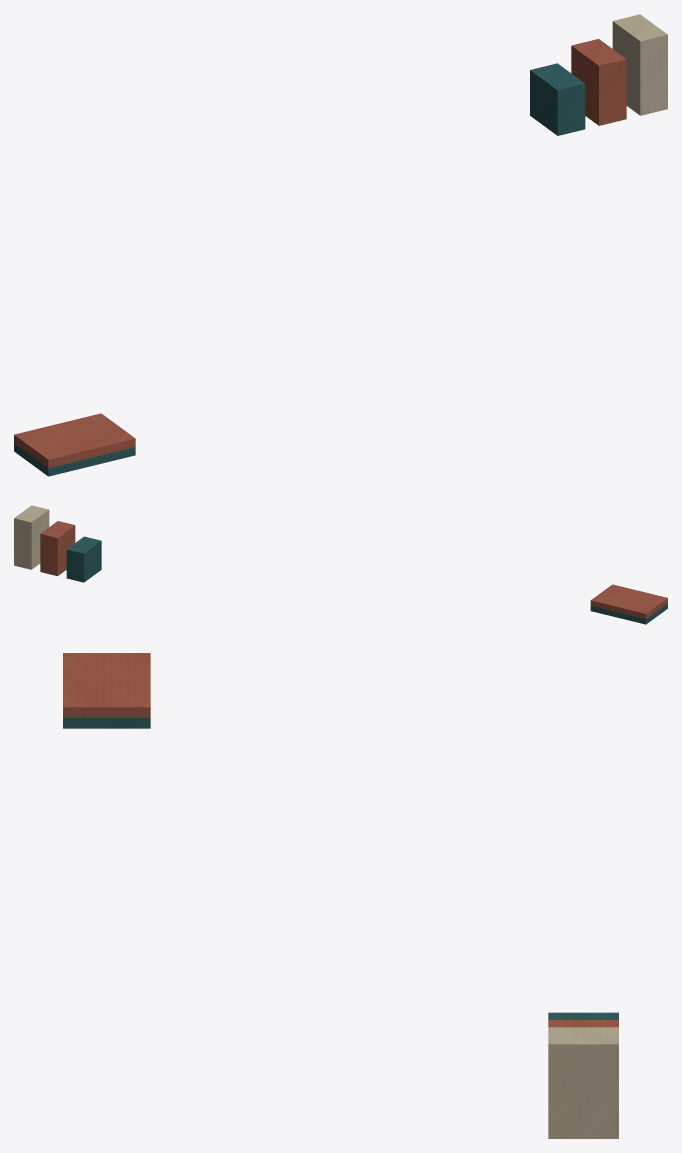
Rendered from detail_props.glb.
3 renders of one model, top to bottom at view 1: azimuth 30°, elevation 25°; view 2: azimuth 150°, elevation 25°; view 3: azimuth 270°, elevation 25°, orthographic. The views are drawn at different scales.
Parts seen in each view (by area): view 1: SUI_DeskBook_2, SUI_TableBook_1, SUI_DeskBook_1, SUI_DeskBook_0, SUI_TableBook_0; view 2: SUI_DeskBook_2, SUI_TableBook_1, SUI_DeskBook_1, SUI_DeskBook_0, SUI_TableBook_0; view 3: SUI_DeskBook_2, SUI_TableBook_1, SUI_TableBook_0.
Part boxes in pixels (bbox=[...]): SUI_DeskBook_2: bbox=[612, 14, 667, 115]; SUI_TableBook_1: bbox=[14, 413, 135, 468]; SUI_DeskBook_1: bbox=[571, 39, 626, 125]; SUI_DeskBook_0: bbox=[530, 63, 585, 135]; SUI_TableBook_0: bbox=[14, 443, 135, 476]; SUI_DeskBook_2: bbox=[14, 505, 49, 569]; SUI_TableBook_1: bbox=[590, 584, 667, 619]; SUI_DeskBook_1: bbox=[40, 521, 75, 576]; SUI_DeskBook_0: bbox=[66, 536, 101, 582]; SUI_TableBook_0: bbox=[590, 603, 667, 624]; SUI_DeskBook_2: bbox=[548, 1027, 618, 1138]; SUI_TableBook_1: bbox=[63, 653, 150, 717]; SUI_TableBook_0: bbox=[63, 718, 150, 728].
Bounding box in the file's own units: 3.53 × 0.435 × 1.65.
Materials: 3 (3 with a texture image).
